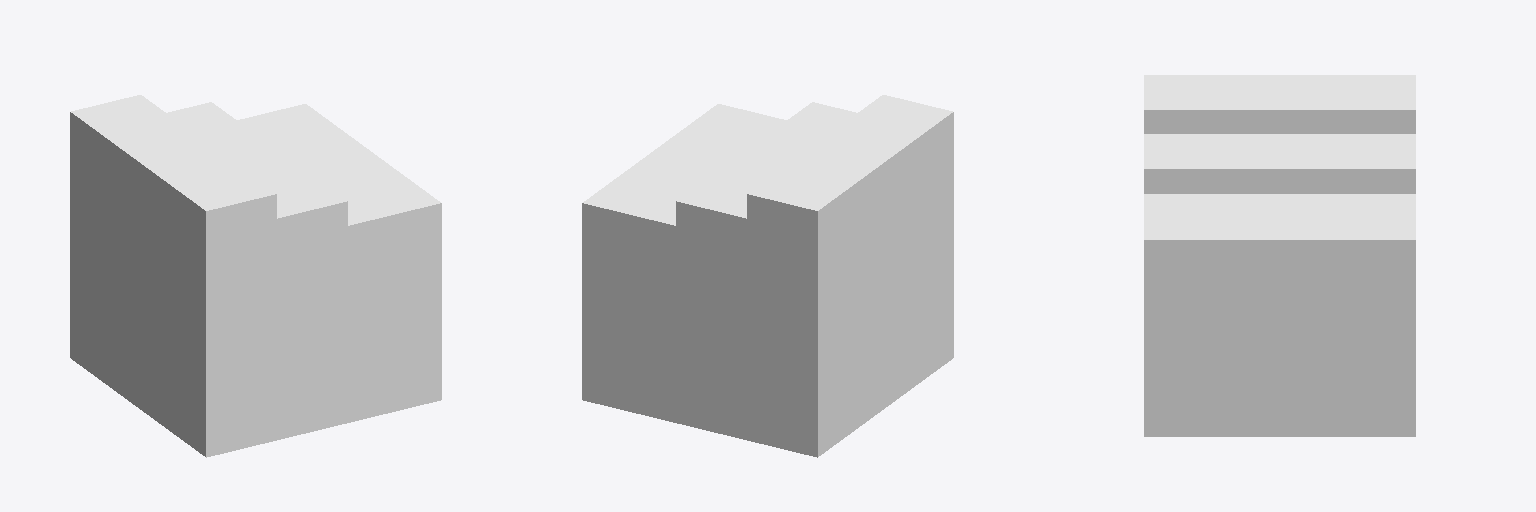
Rendered from Lehm_Rand-0.4.obj.
3 renders of one model, left to right at view 1: azimuth 30°, elevation 25°; view 2: azimuth 150°, elevation 25°; view 3: azimuth 270°, elevation 25°, orthographic.
Parts seen in each view (by area): view 1: object 1; view 2: object 1; view 3: object 1.
Part boxes in pixels (bbox=[...]): object 1: bbox=[70, 95, 441, 457]; object 1: bbox=[582, 95, 953, 457]; object 1: bbox=[1144, 75, 1415, 436].
Size of the model in its own units: 1 by 1 by 1.